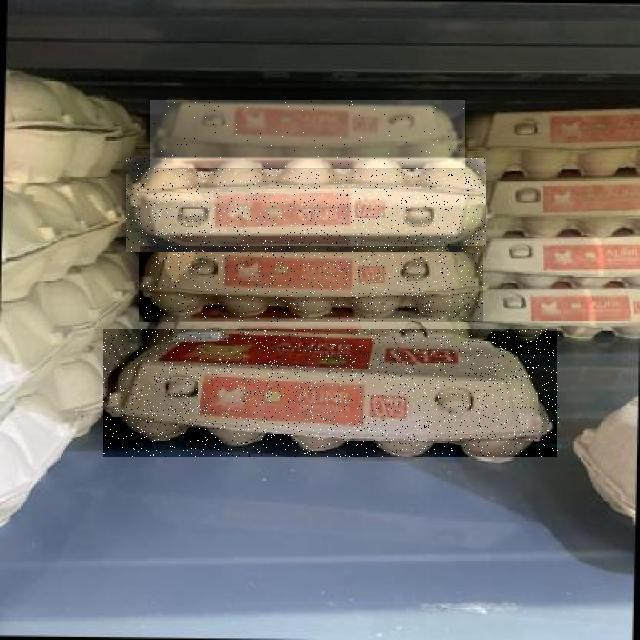Eggs: (104, 329, 560, 457), (126, 159, 486, 253), (140, 246, 486, 322), (150, 100, 465, 168)
